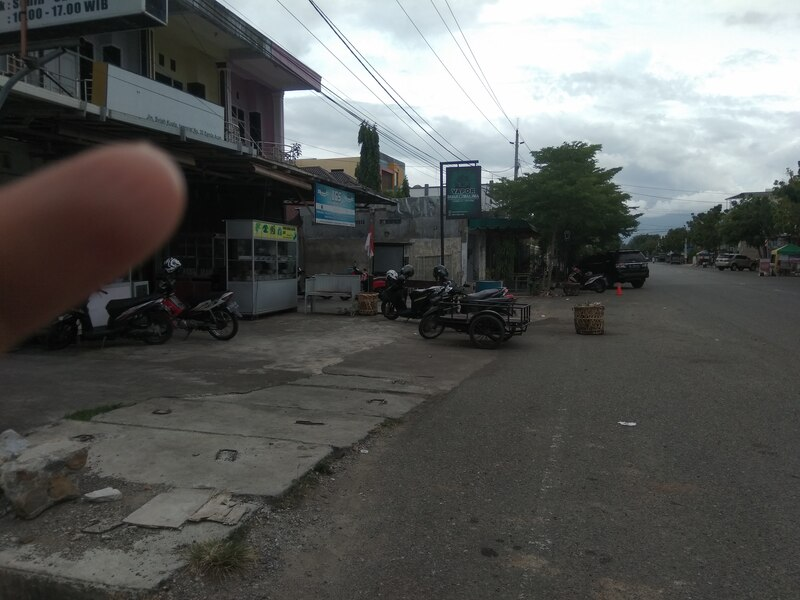becak barang: (416, 269, 534, 354)
